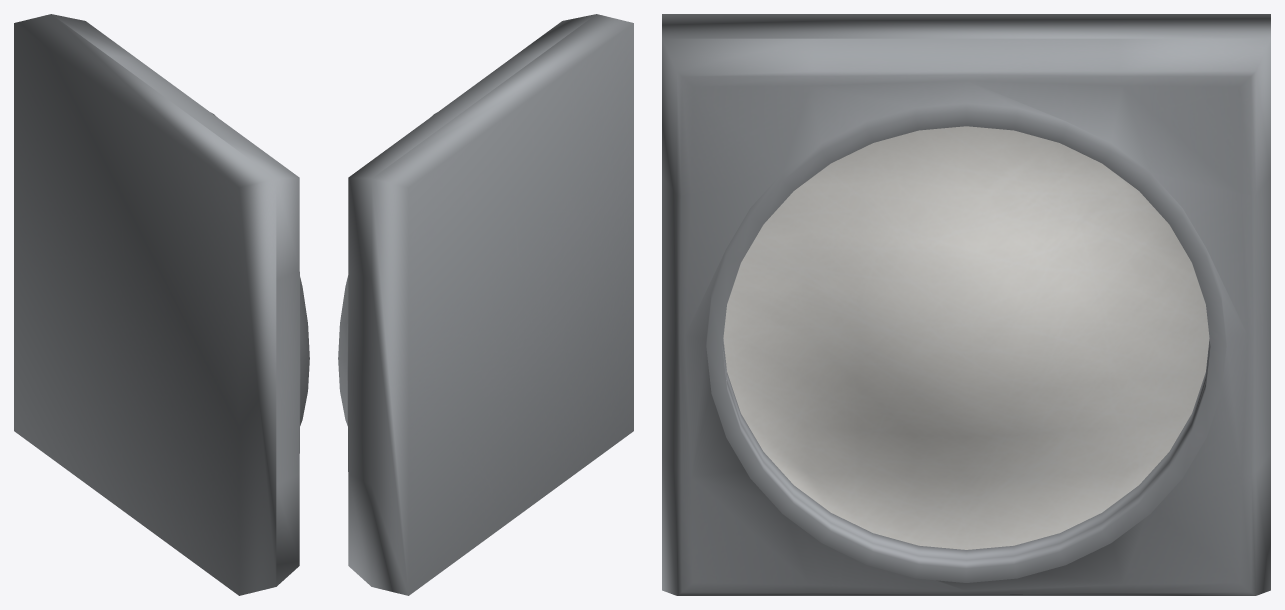
Rendered from 스피커.fbx.
3 renders of one model, left to right at view 1: azimuth 30°, elevation 25°; view 2: azimuth 150°, elevation 25°; view 3: azimuth 270°, elevation 25°, orthographic. The views are drawn at different scales.
Visible parts, largest first — view 1: 스피커?; view 2: 스피커?; view 3: 스피커?.
Part boxes in pixels (bbox=[...]): 스피커?: bbox=[14, 14, 309, 595]; 스피커?: bbox=[338, 14, 633, 595]; 스피커?: bbox=[662, 14, 1270, 595].
Bounding box in the file's own units: 9.08 × 39.64 × 39.64.
